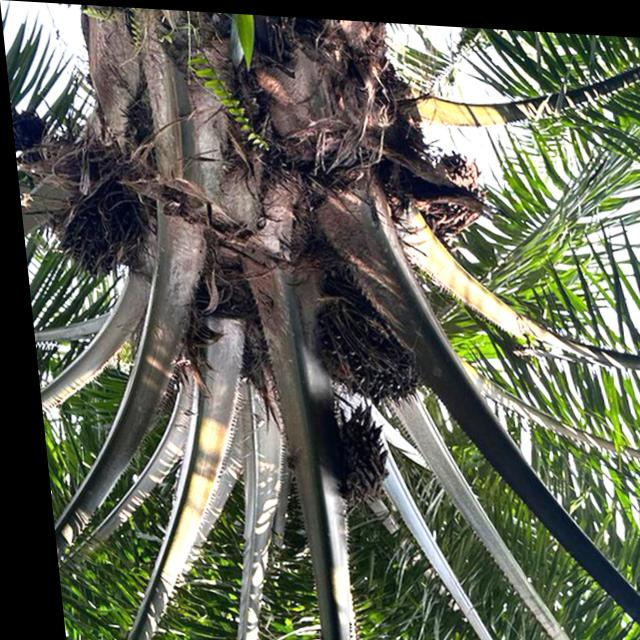ripe: (298, 298, 430, 418)
